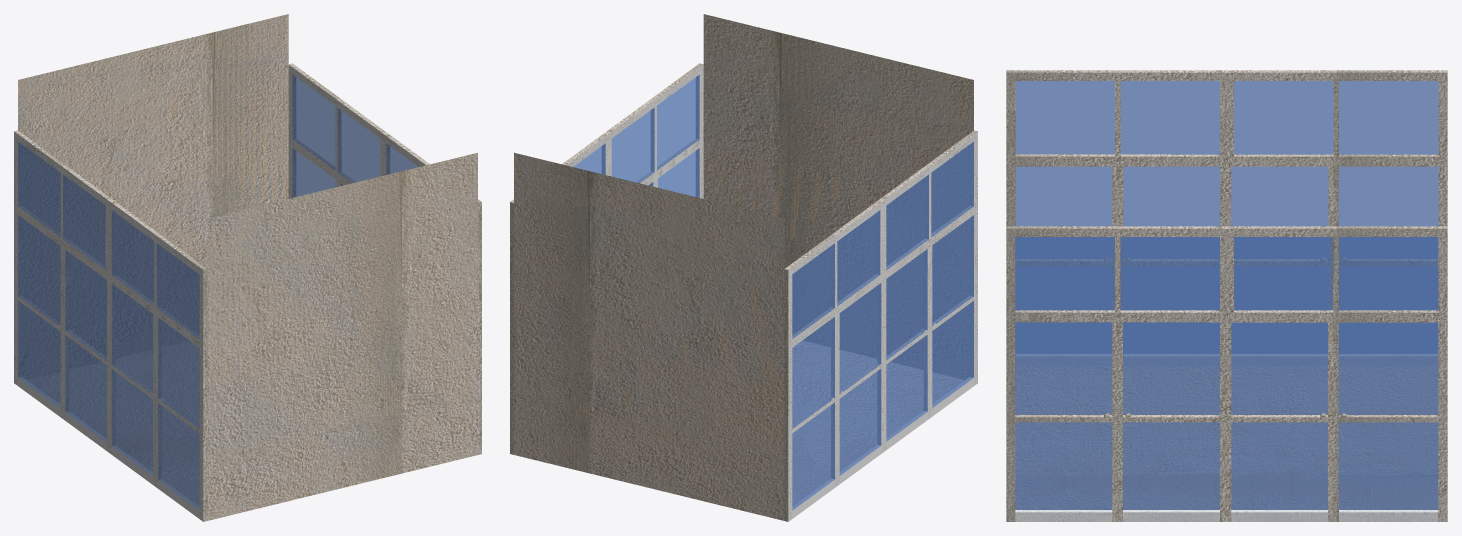
File: COM001.obj
The picture shows the model from 3 angles, left to right: view 1: azimuth 30°, elevation 25°; view 2: azimuth 150°, elevation 25°; view 3: azimuth 270°, elevation 25°; orthographic projection. The views are drawn at different scales.
Visible parts, largest first — view 1: Mesh13 COM001 Model, Mesh1 p16_1 COM001 Model, Mesh7 p16_2 COM001 Model; view 2: Mesh13 COM001 Model, Mesh1 p16_1 COM001 Model, Mesh7 p16_2 COM001 Model; view 3: Mesh7 p16_2 COM001 Model, Mesh1 p16_1 COM001 Model, Mesh13 COM001 Model.
Boxes of the visible parts, box(x1,y1,x2,y2) form: Mesh13 COM001 Model: box(18, 14, 477, 520); Mesh1 p16_1 COM001 Model: box(14, 130, 207, 521); Mesh7 p16_2 COM001 Model: box(288, 63, 481, 454); Mesh13 COM001 Model: box(514, 14, 973, 520); Mesh1 p16_1 COM001 Model: box(784, 130, 977, 521); Mesh7 p16_2 COM001 Model: box(510, 63, 703, 454); Mesh7 p16_2 COM001 Model: box(1006, 226, 1447, 521); Mesh1 p16_1 COM001 Model: box(1006, 70, 1447, 365); Mesh13 COM001 Model: box(1015, 366, 1437, 509).
Size of the model in its own units: 3.47 by 3.6 by 4.09.
6 materials, 2 textured.
